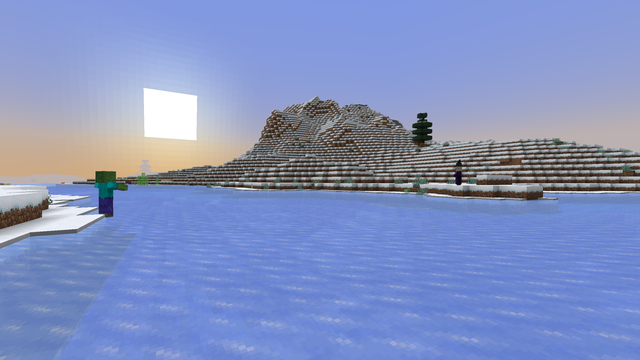slimes: (403, 189, 409, 193)
sorcieres: (453, 165, 462, 185)
zombies: (95, 172, 115, 217)
